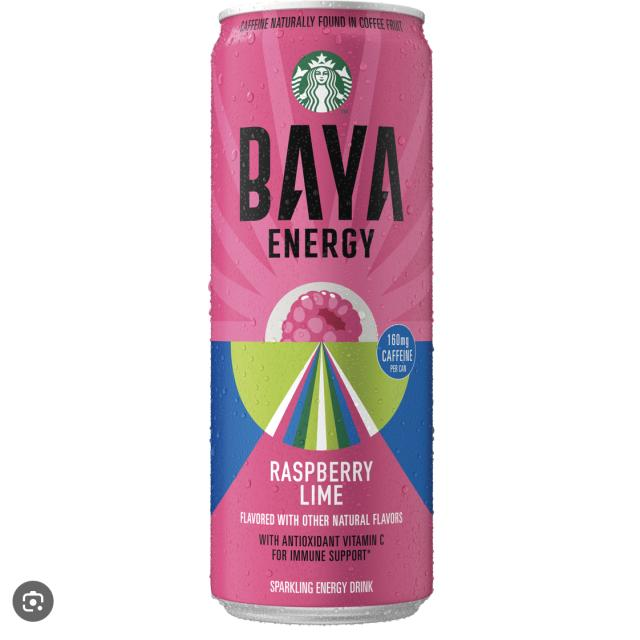recyclable: (162, 0, 495, 634)
